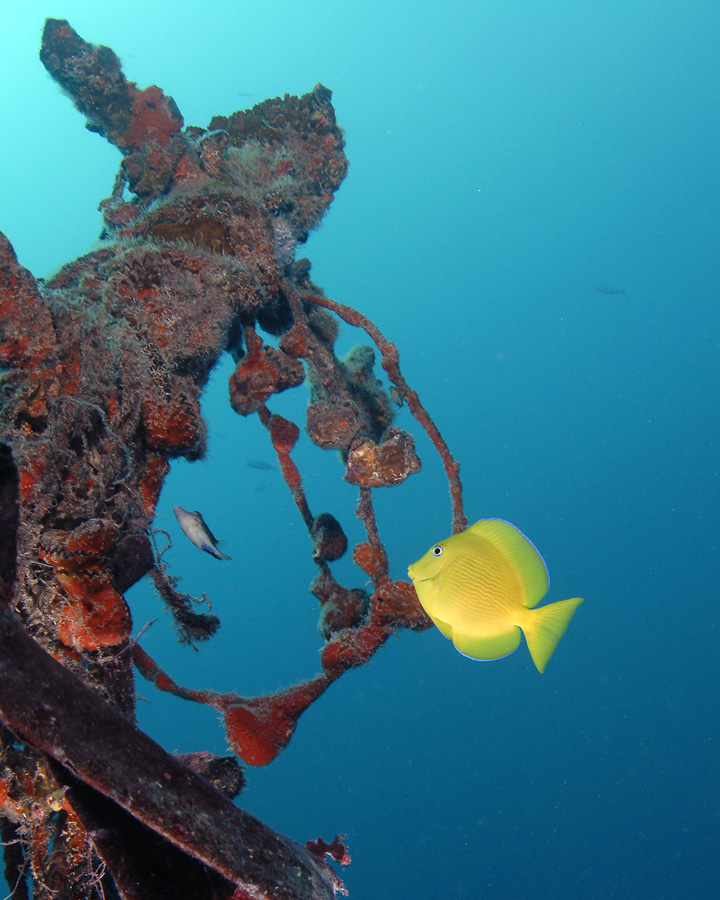Acanthurus_coeruleus: (404, 516, 589, 681)
